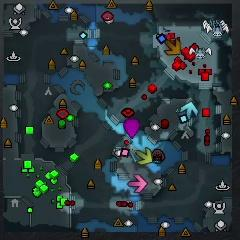p3: (124, 118, 140, 139)
x1: (128, 174, 147, 193)
x2: (135, 147, 153, 167)
x3: (180, 100, 200, 121)
x5: (165, 39, 183, 56)
